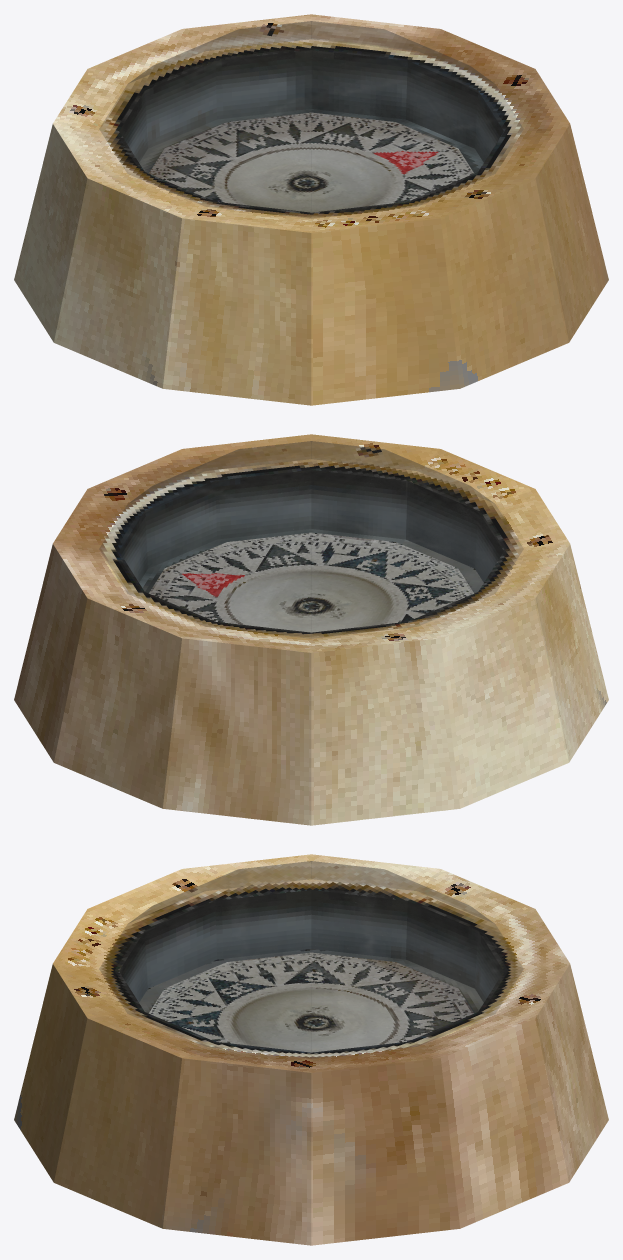
Rendered from compass.glb.
3 renders of one model, top to bottom at view 1: azimuth 30°, elevation 25°; view 2: azimuth 150°, elevation 25°; view 3: azimuth 270°, elevation 25°, orthographic.
Visible parts, largest first — view 1: compass_body, compass_glass, compass_inside; view 2: compass_body, compass_glass, compass_inside; view 3: compass_body, compass_glass, compass_inside.
Boxes of the visible parts, x1,y1,x2,y2 form: compass_body: [14, 14, 608, 405]; compass_glass: [100, 21, 523, 218]; compass_inside: [149, 112, 473, 212]; compass_body: [14, 434, 608, 825]; compass_glass: [99, 441, 522, 638]; compass_inside: [149, 532, 473, 632]; compass_body: [14, 854, 608, 1245]; compass_glass: [99, 861, 523, 1058]; compass_inside: [149, 952, 473, 1052].
Bounding box in the file's own units: 0.459 × 0.189 × 0.459.
3 materials, 3 textured.
